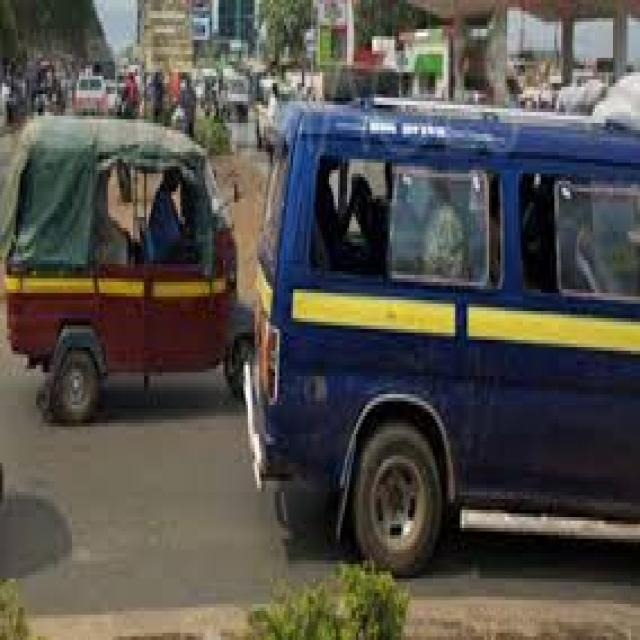matatu: (251, 67, 640, 562)
tuktuk: (1, 83, 244, 439)
